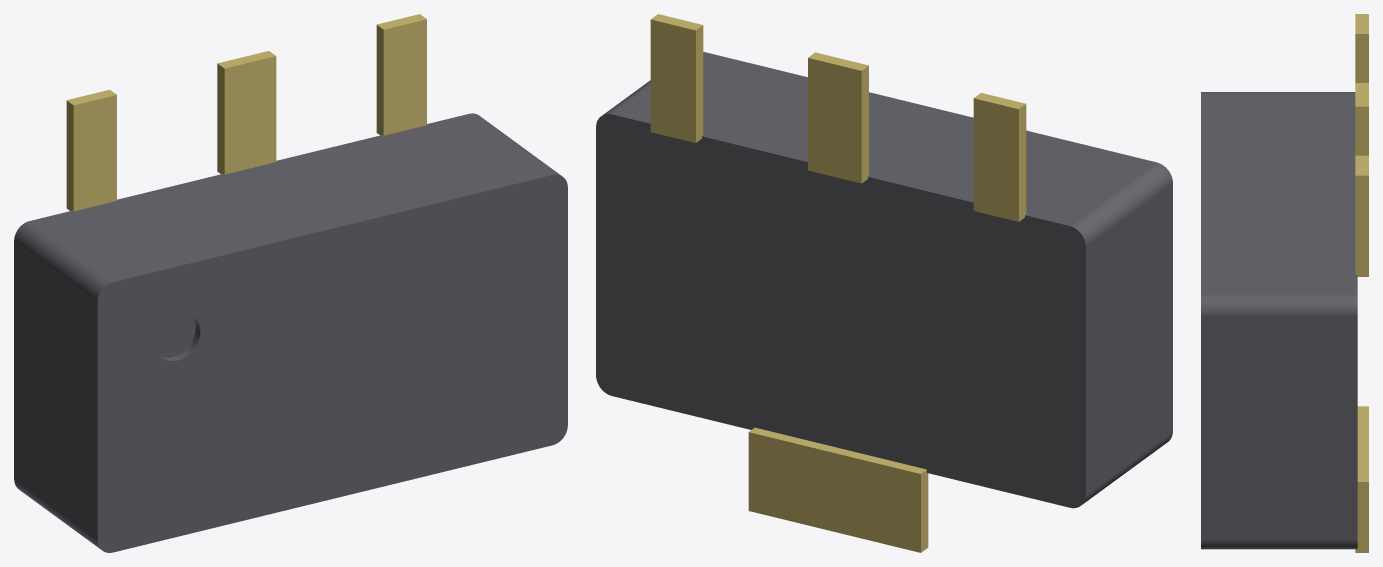
3 renders of one model, left to right at view 1: azimuth 30°, elevation 25°; view 2: azimuth 150°, elevation 25°; view 3: azimuth 270°, elevation 25°, orthographic. The views are drawn at different scales.
Visible parts, largest first — view 1: extra, pins; view 2: extra, pins; view 3: extra, pins.
Boxes of the visible parts, bbox=[...] form: extra: bbox=[14, 113, 567, 552]; pins: bbox=[66, 14, 426, 211]; extra: bbox=[596, 52, 1172, 508]; pins: bbox=[650, 14, 1026, 552]; extra: bbox=[1201, 92, 1357, 549]; pins: bbox=[1355, 14, 1368, 552].
Bounding box in the file's own units: 4.55 × 4.15 × 1.5.
